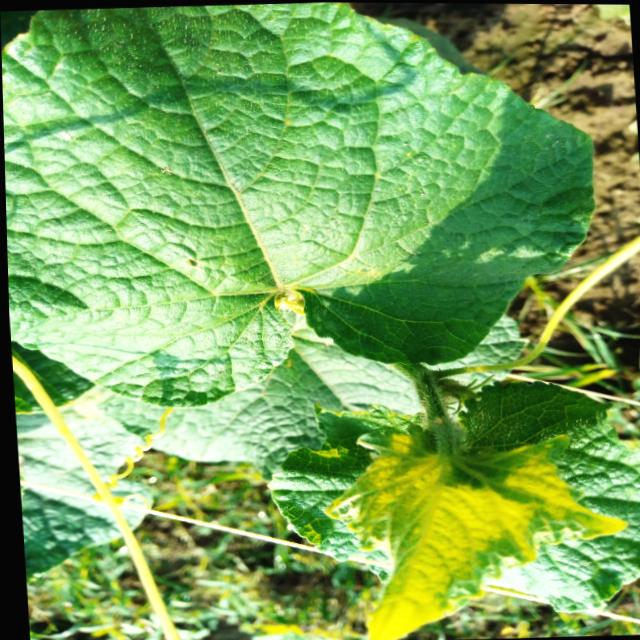Fresh-Leaf: (1, 2, 594, 407)
